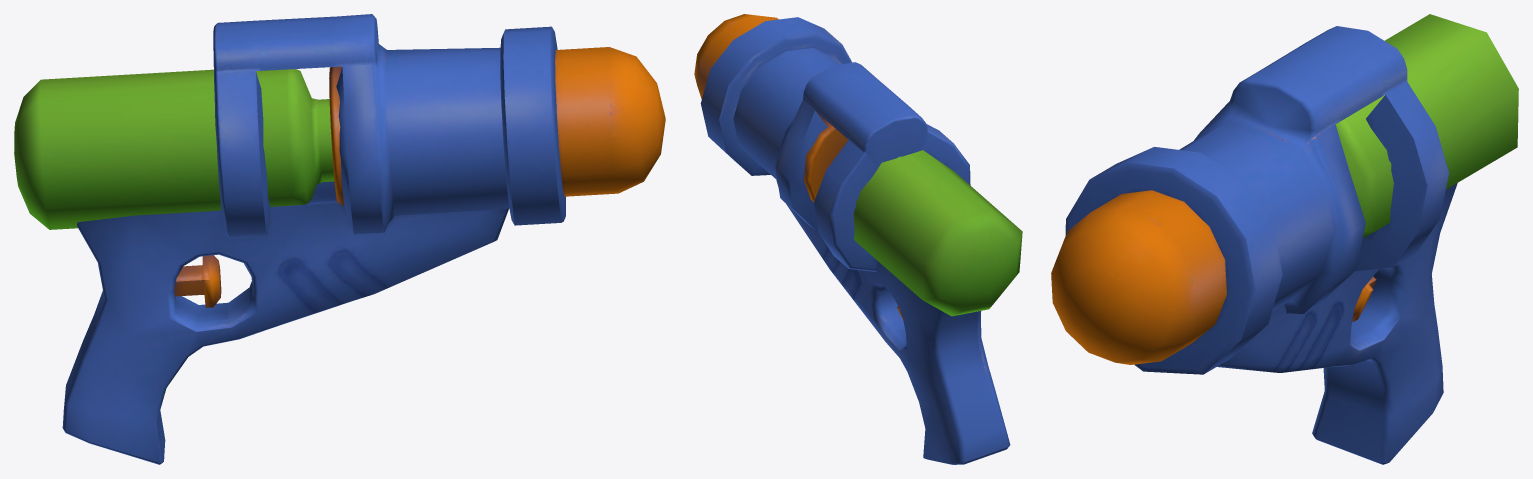
File: 0-watergun_blue.fbx
3 views of the same model, side by side, from view 1: azimuth 30°, elevation 25°; view 2: azimuth 150°, elevation 25°; view 3: azimuth 270°, elevation 25° (orthographic). The views are drawn at different scales.
Visible parts, largest first — view 1: 0-watergun_blue; view 2: 0-watergun_blue; view 3: 0-watergun_blue.
Part boxes in pixels (x1=…): 0-watergun_blue: x1=14, y1=14, x2=665, y2=464; 0-watergun_blue: x1=694, y1=14, x2=1022, y2=464; 0-watergun_blue: x1=1051, y1=14, x2=1518, y2=464.
Size of the model in its own units: 92.88 by 72.52 by 65.15.
